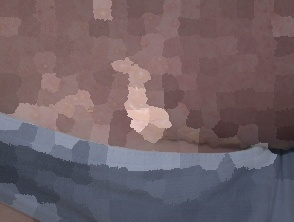SJS-TEN: (0, 0, 294, 178)
